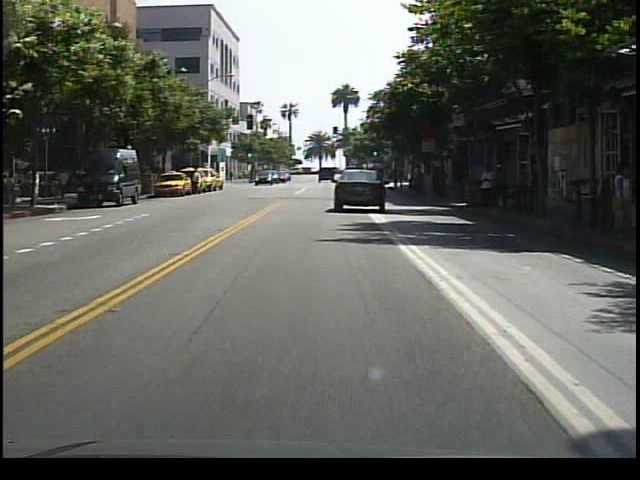person: (475, 161, 501, 218), (189, 162, 204, 197)
